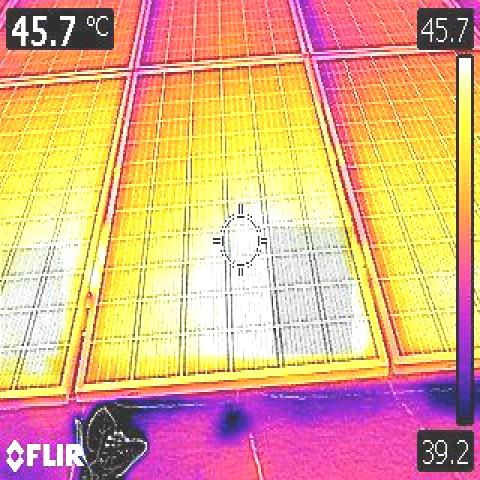fault: (272, 227, 352, 354), (1, 248, 63, 375)
